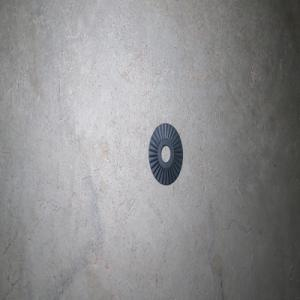Washer: (148, 123, 182, 185)
